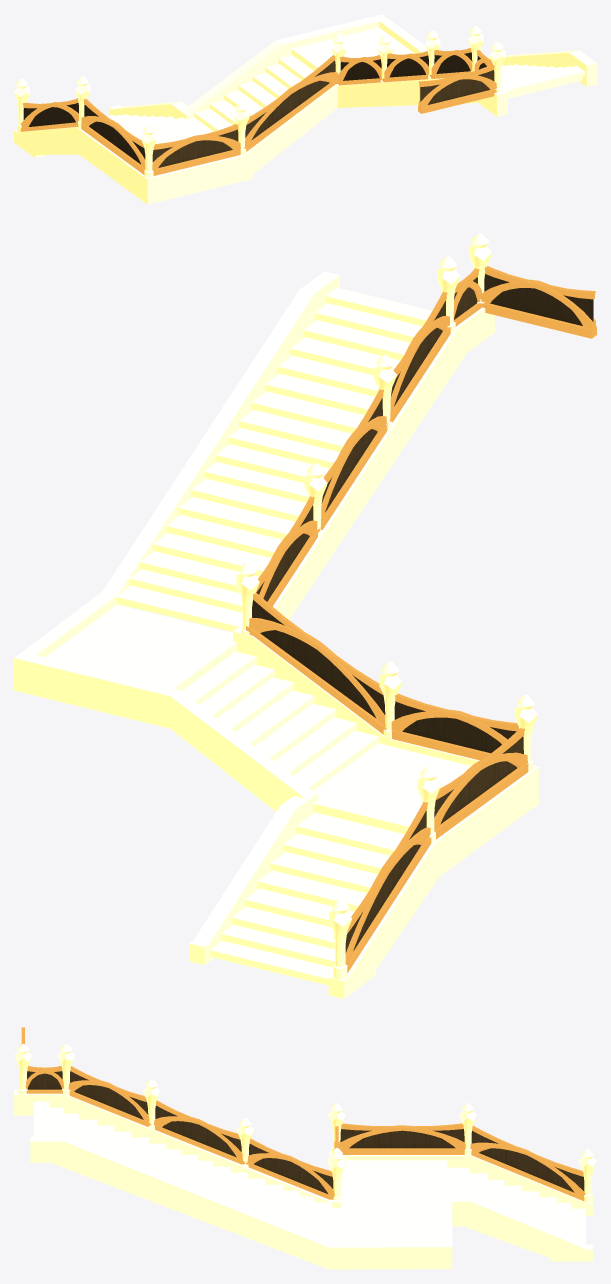
Rendered from Homeworld_Interior_Xm_Room_F_Stair_01_Vo.fbx.
3 views of the same model, one above another, from view 1: azimuth 30°, elevation 25°; view 2: azimuth 150°, elevation 25°; view 3: azimuth 270°, elevation 25° (orthographic). The views are drawn at different scales.
Parts seen in each view (by area): view 1: Homeworld_Interior_Xm_Room_F_Stair_01_Vo; view 2: Homeworld_Interior_Xm_Room_F_Stair_01_Vo; view 3: Homeworld_Interior_Xm_Room_F_Stair_01_Vo.
Boxes of the visible parts, x1,y1,x2,y2 form: Homeworld_Interior_Xm_Room_F_Stair_01_Vo: (14, 14, 596, 204); Homeworld_Interior_Xm_Room_F_Stair_01_Vo: (14, 233, 596, 998); Homeworld_Interior_Xm_Room_F_Stair_01_Vo: (14, 1027, 596, 1269).
Size of the model in its own units: 7.81 by 6.53 by 13.25.
